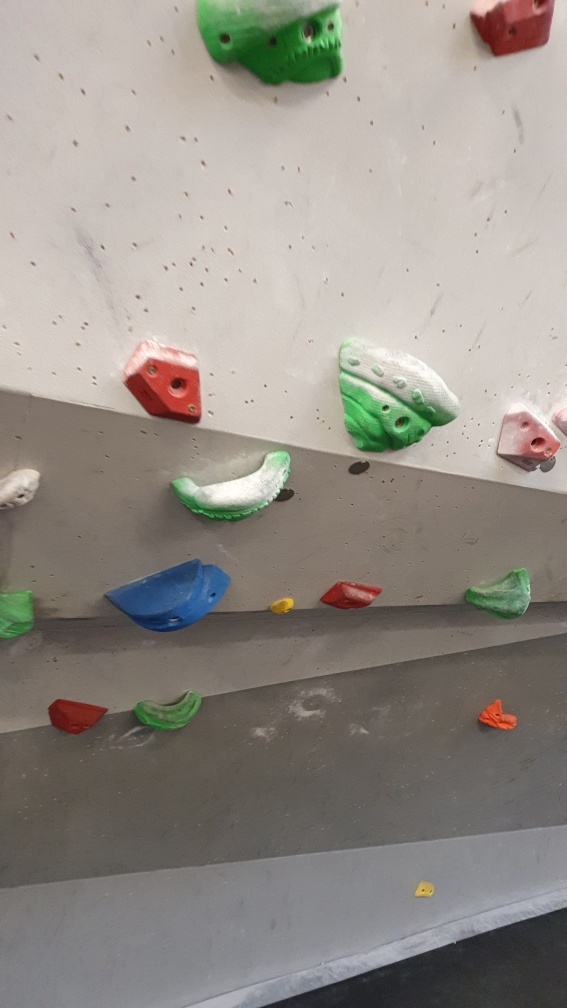Crimp: (121, 342, 208, 428), (494, 404, 557, 476), (320, 582, 388, 615)
Hand Start: (345, 458, 371, 481), (276, 488, 297, 503)
Jug: (338, 341, 465, 462), (167, 451, 290, 525), (459, 564, 538, 620), (132, 685, 207, 740)
Pinch: (102, 557, 228, 636)
